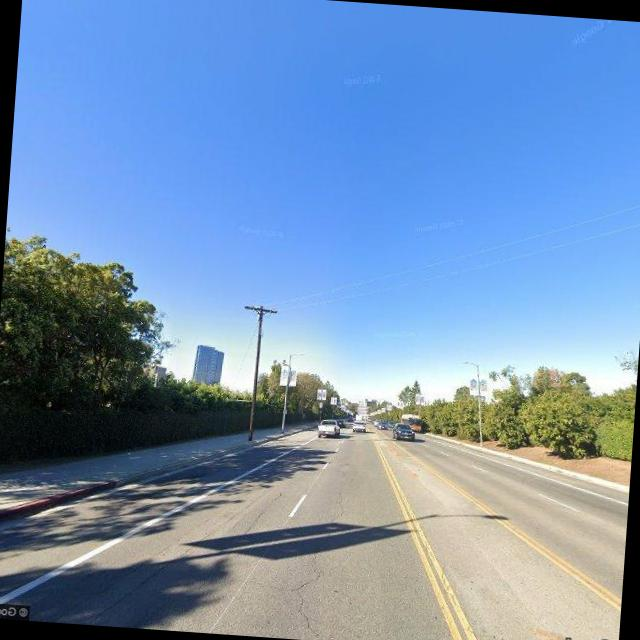pothole: (288, 553, 334, 640), (240, 483, 286, 548)
